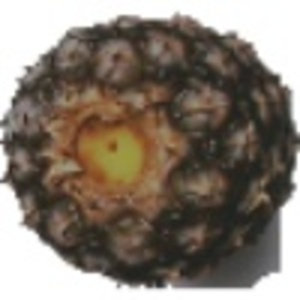abacaxi: (2, 7, 294, 281)
